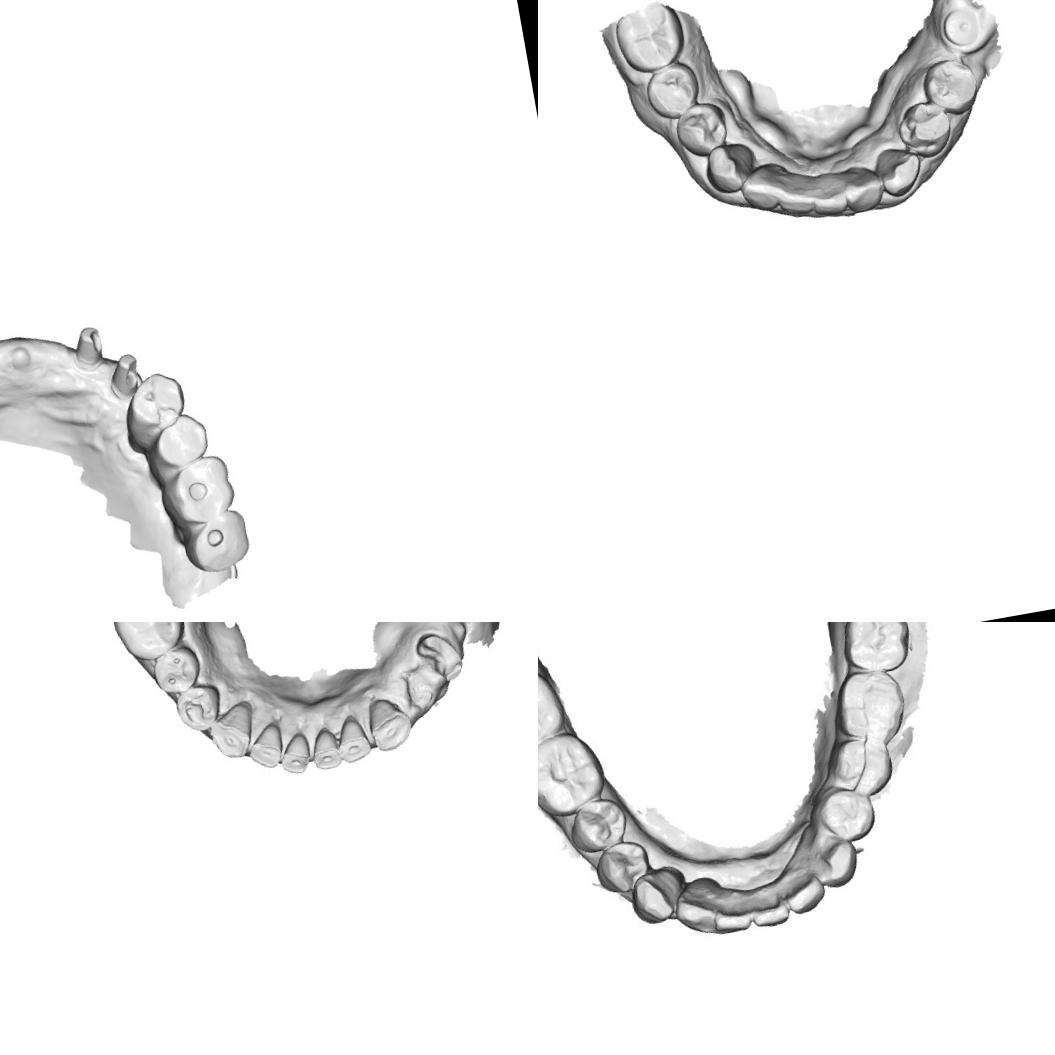abutment: (102, 350, 144, 406), (68, 320, 110, 372)
canine: (202, 695, 264, 764), (630, 862, 689, 930), (698, 134, 756, 198), (362, 689, 416, 756), (870, 141, 927, 202), (810, 830, 860, 890)
implant: (937, 0, 988, 52)
incisor: (835, 154, 889, 217), (769, 156, 818, 220), (803, 159, 854, 218), (733, 162, 785, 215), (330, 709, 376, 765), (242, 718, 288, 772), (303, 721, 347, 775), (676, 878, 720, 932), (780, 863, 824, 914), (274, 727, 314, 778), (751, 884, 790, 928), (716, 897, 754, 934)
molar: (156, 450, 238, 528), (611, 4, 690, 78), (836, 663, 906, 743), (538, 725, 601, 811), (178, 506, 253, 576), (840, 622, 916, 675), (105, 622, 194, 667), (538, 666, 565, 747)
premolar: (115, 367, 192, 455), (141, 410, 212, 478), (890, 92, 956, 164), (830, 729, 898, 798), (916, 52, 984, 120), (640, 54, 706, 124), (668, 96, 734, 161), (594, 836, 656, 897), (820, 783, 879, 843), (146, 641, 206, 699), (568, 794, 626, 850), (171, 678, 227, 735)
